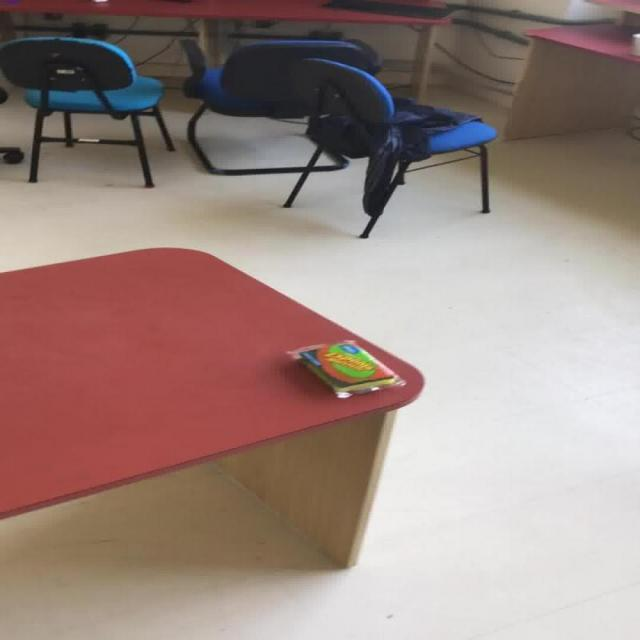Sponge: (284, 339, 405, 399)
